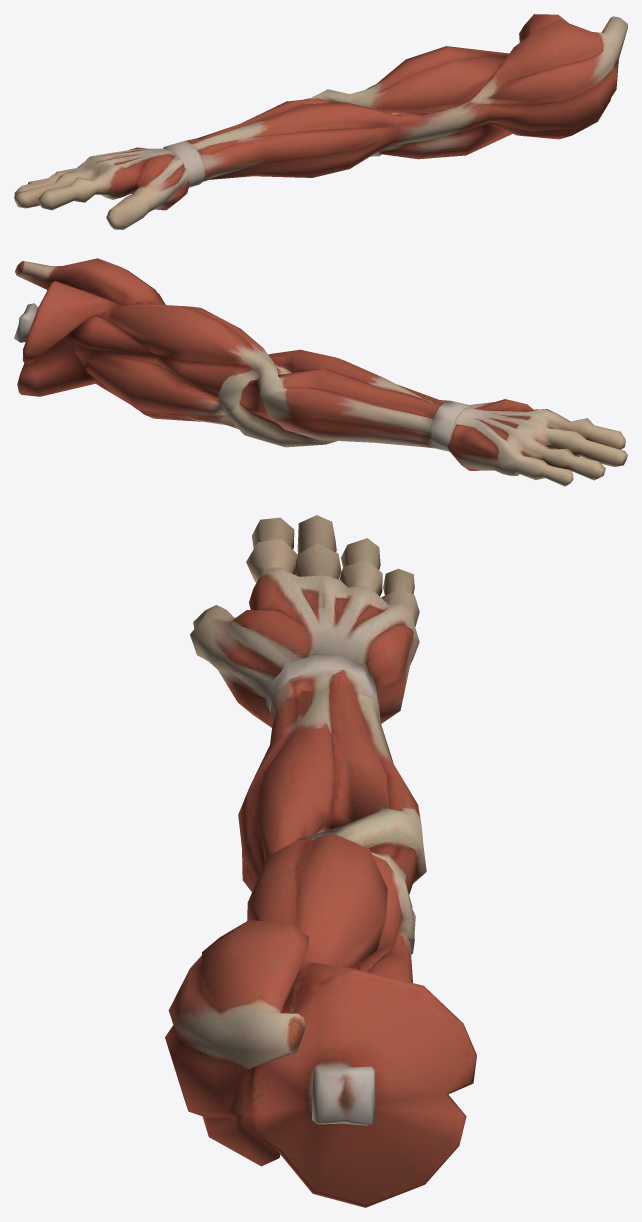
The model's file is arm-muscle.glb.
The picture shows the model from 3 angles, top to bottom: view 1: azimuth 30°, elevation 25°; view 2: azimuth 150°, elevation 25°; view 3: azimuth 270°, elevation 25°; orthographic projection. The views are drawn at different scales.
Visible parts, largest first — view 1: tripo_node_5db4ec64-72df-4b0d-8506-5b3bf; view 2: tripo_node_5db4ec64-72df-4b0d-8506-5b3bf; view 3: tripo_node_5db4ec64-72df-4b0d-8506-5b3bf.
Part boxes in pixels (x1,y1,x2,y2): tripo_node_5db4ec64-72df-4b0d-8506-5b3bf: (14, 14, 627, 229); tripo_node_5db4ec64-72df-4b0d-8506-5b3bf: (14, 258, 627, 486); tripo_node_5db4ec64-72df-4b0d-8506-5b3bf: (165, 515, 476, 1207).
Size of the model in its own units: 0.1053 by 0.0199 by 0.0236.
Materials: 1 (1 with a texture image).
